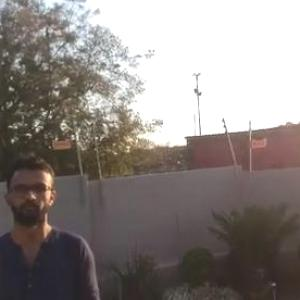follow: (1, 148, 97, 299)
